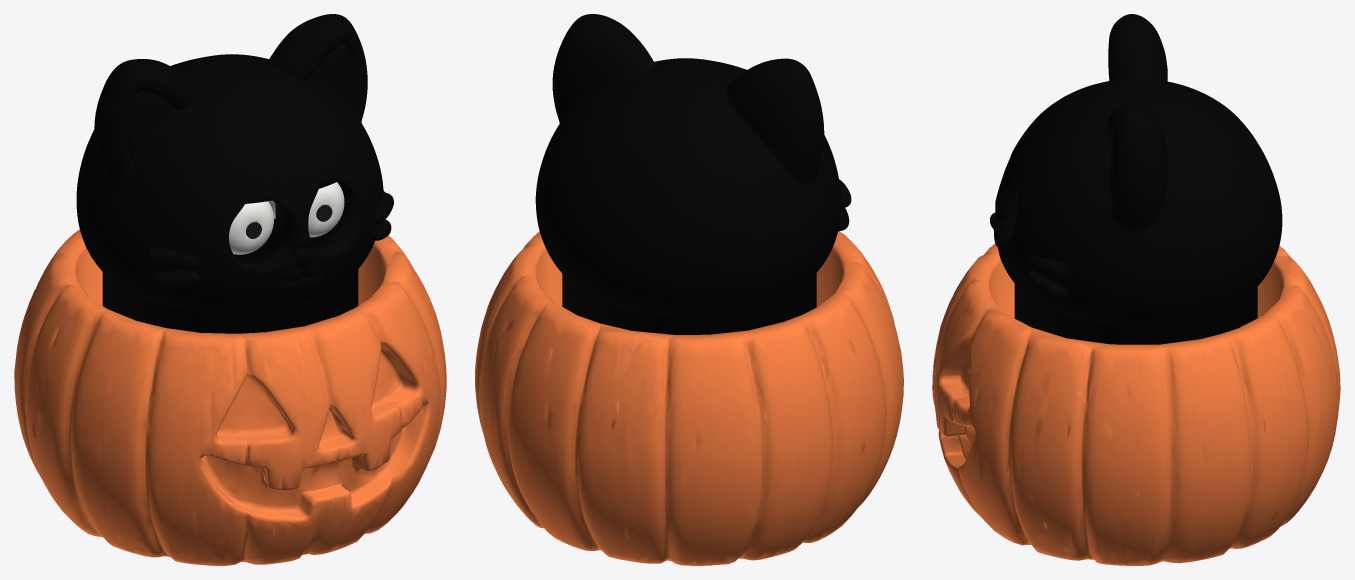
The model's file is pop-eyed-pumpkin-cat.glb.
3 renders of one model, left to right at view 1: azimuth 30°, elevation 25°; view 2: azimuth 150°, elevation 25°; view 3: azimuth 270°, elevation 25°, orthographic. The views are drawn at different scales.
Visible parts, largest first — view 1: base, head, eyes; view 2: base, head; view 3: base, head.
Part boxes in pixels (x1=…): base: x1=14, y1=229, x2=446, y2=565; head: x1=76, y1=14, x2=393, y2=333; eyes: x1=229, y1=182, x2=344, y2=254; base: x1=475, y1=231, x2=903, y2=565; head: x1=535, y1=14, x2=851, y2=334; base: x1=932, y1=244, x2=1340, y2=565; head: x1=990, y1=14, x2=1282, y2=344.
Bounding box in the file's own units: 74.38 × 86.87 × 73.9.
